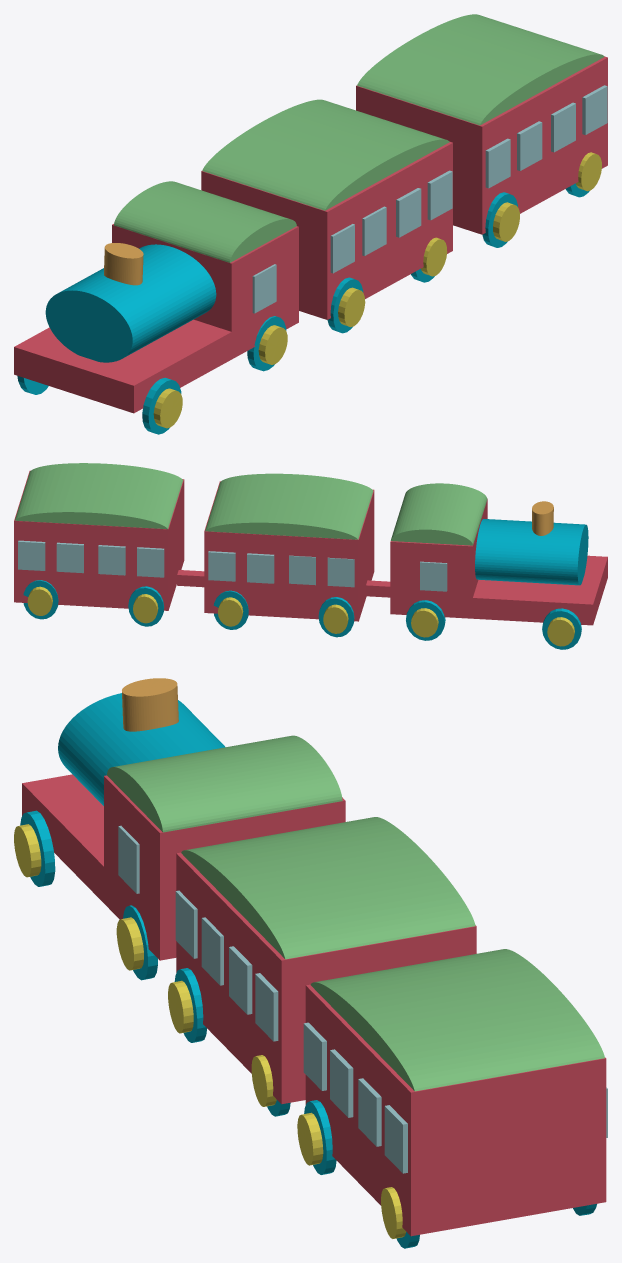
File: neeal tinkercad.glb
3 renders of one model, top to bottom at view 1: azimuth 30°, elevation 25°; view 2: azimuth 150°, elevation 25°; view 3: azimuth 270°, elevation 25°, orthographic. The views are drawn at different scales.
Visible parts, largest first — view 1: Mesh_Mesh_head_geo.001_lambert2SG.001; view 2: Mesh_Mesh_head_geo.001_lambert2SG.001; view 3: Mesh_Mesh_head_geo.001_lambert2SG.001.
Boxes of the visible parts, x1,y1,x2,y2 form: Mesh_Mesh_head_geo.001_lambert2SG.001: (14, 14, 607, 434); Mesh_Mesh_head_geo.001_lambert2SG.001: (14, 463, 607, 649); Mesh_Mesh_head_geo.001_lambert2SG.001: (14, 678, 607, 1248).
Size of the model in its own units: 0.1948 by 0.042 by 0.1124.
